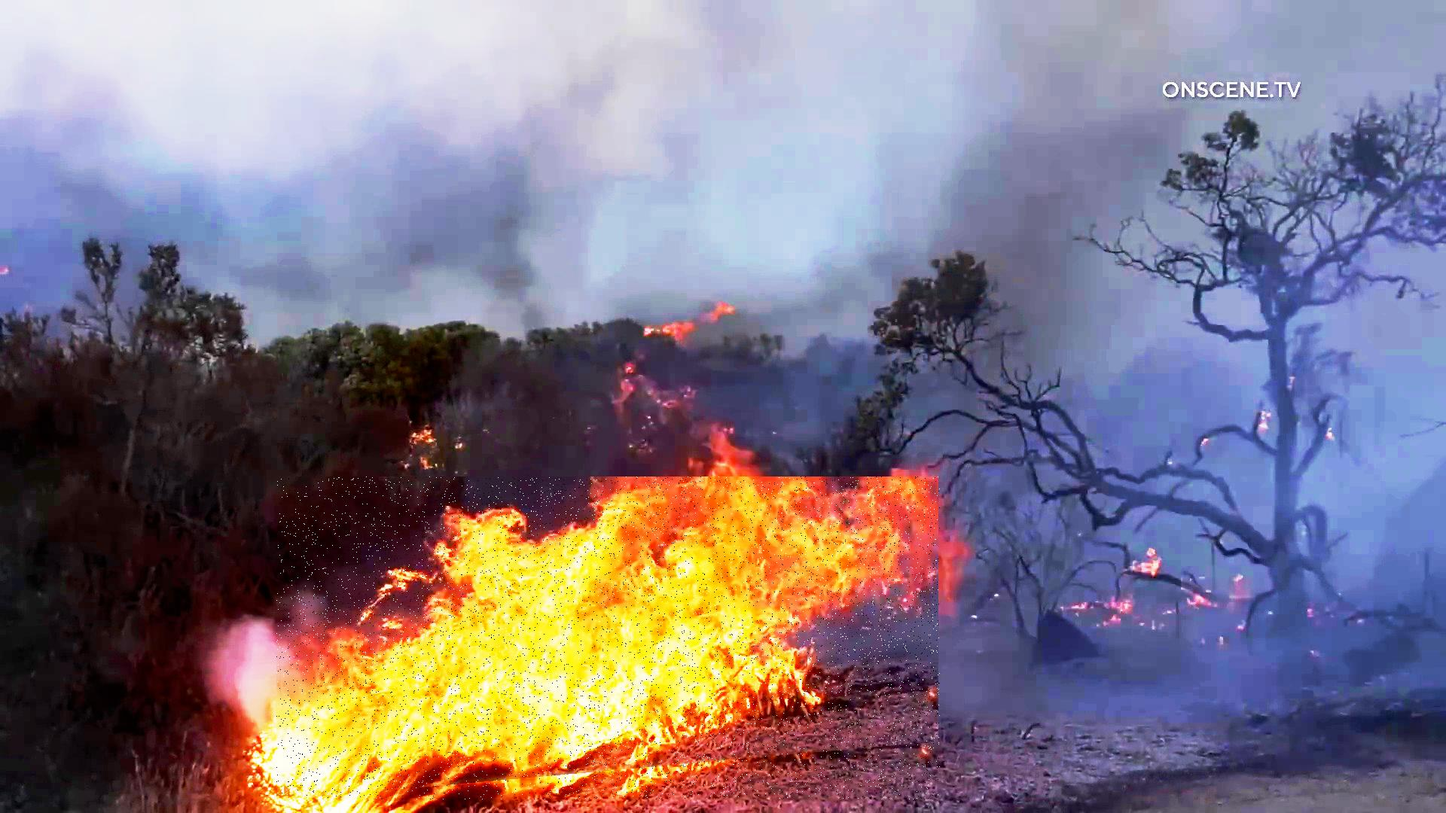fire: (277, 477, 941, 800)
